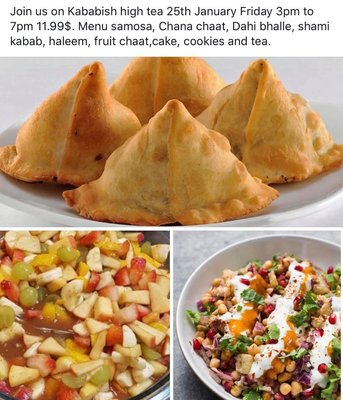curry: (218, 333, 254, 354), (239, 287, 264, 303)
sushi: (0, 230, 172, 400), (175, 233, 342, 400)
